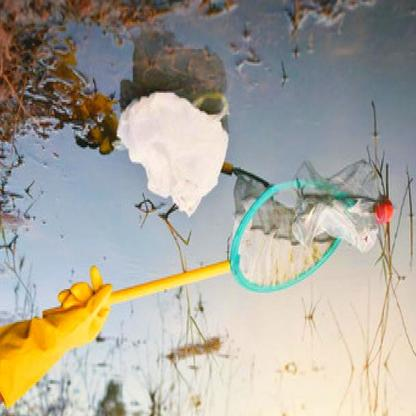foam: (115, 92, 228, 213)
plastic bottle: (300, 197, 393, 249)
